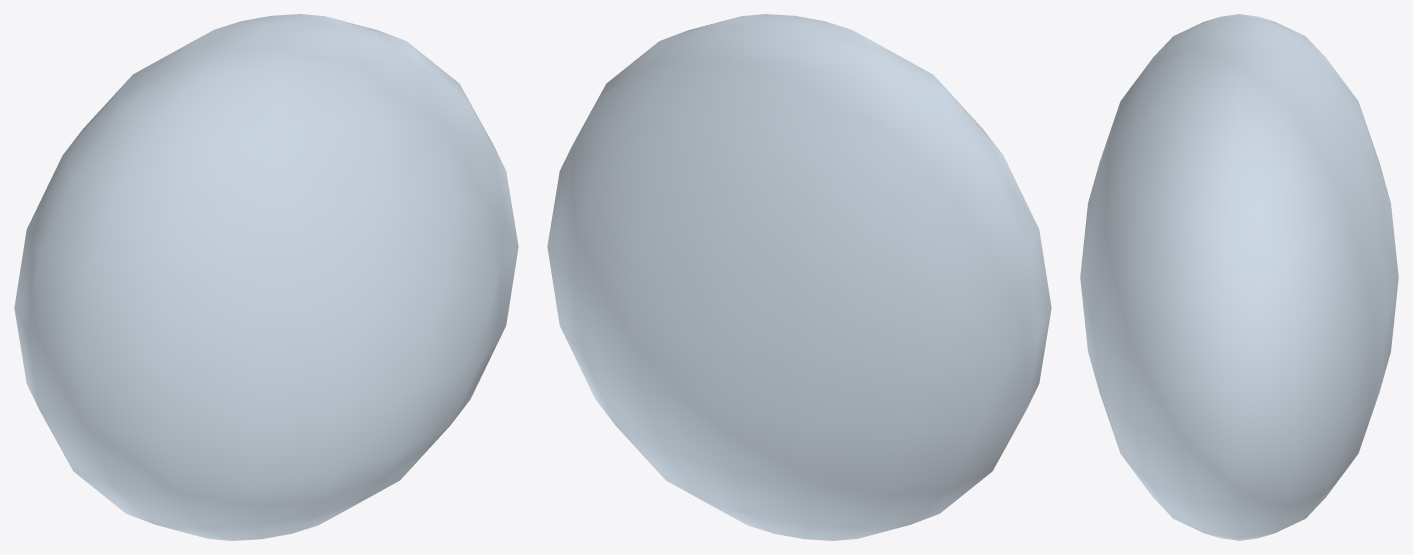
The model's file is Bubble.fbx.
3 views of the same model, side by side, from view 1: azimuth 30°, elevation 25°; view 2: azimuth 150°, elevation 25°; view 3: azimuth 270°, elevation 25° (orthographic). The views are drawn at different scales.
Visible parts, largest first — view 1: Bubble; view 2: Bubble; view 3: Bubble.
Part boxes in pixels (x1,y1,x2,y2): Bubble: [14, 14, 518, 540]; Bubble: [547, 14, 1051, 540]; Bubble: [1080, 14, 1398, 540].
Bounding box in the file's own units: 0.9 × 0.9 × 0.54.
